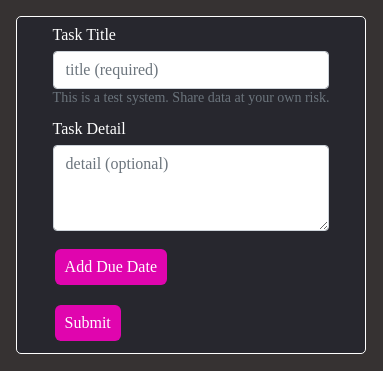
Test: Empty form renders correctly › Check due date field appears on demand
Click the button with test id "addDueDate" at (111, 267), box [55,249,167,285]
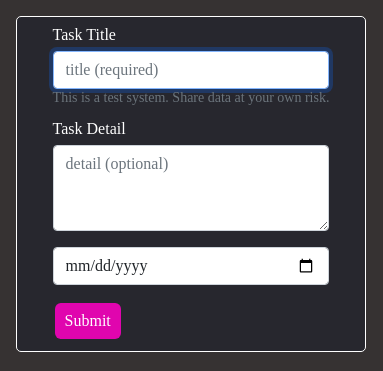
Expected: the date field with test id "dueDate" is shown, [53,247,329,285]
